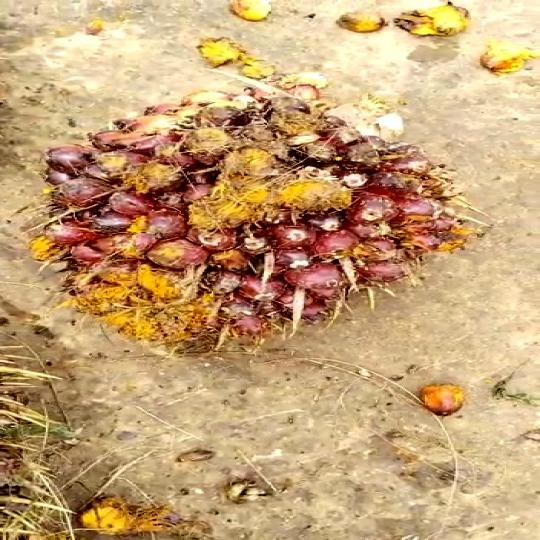masak: (32, 89, 456, 362)
